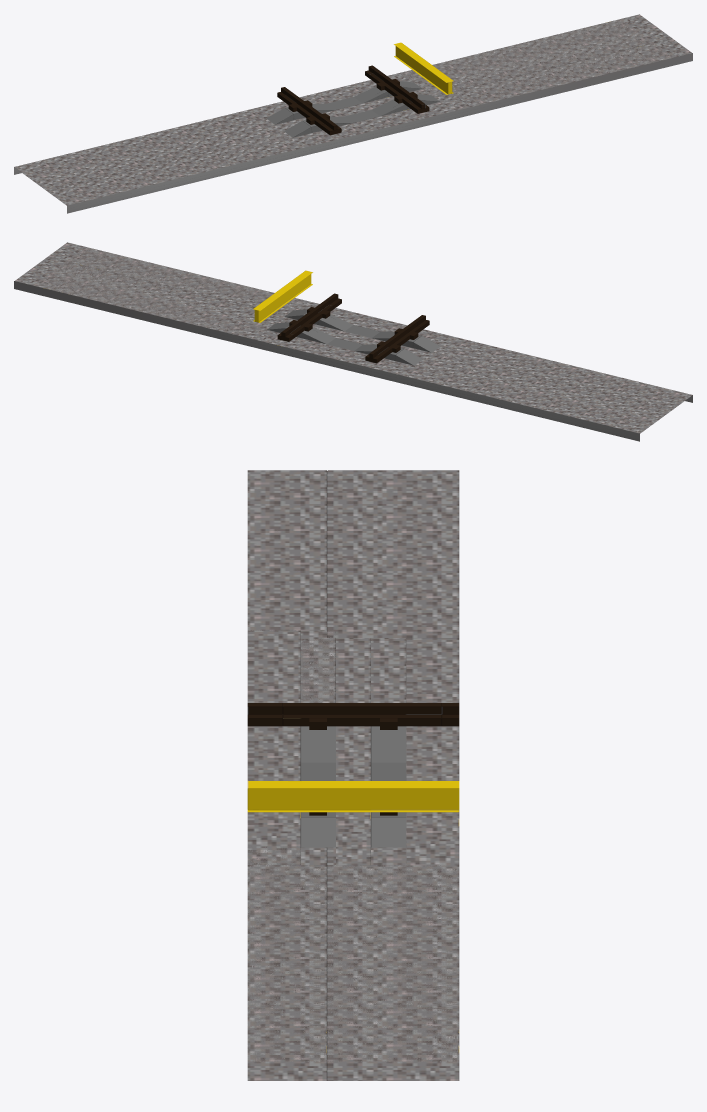
File: athen-metro-rail-5.obj
3 renders of one model, top to bottom at view 1: azimuth 30°, elevation 25°; view 2: azimuth 150°, elevation 25°; view 3: azimuth 270°, elevation 25°, orthographic. The views are drawn at different scales.
Visible parts, largest first — view 1: cube; view 2: cube; view 3: cube.
Part boxes in pixels (x1,y1,x2,y2): cube: (14,14,692,213); cube: (14,242,692,441); cube: (247,470,459,1080).
Size of the model in its own units: 10.25 by 0.7038 by 1.5.
Materials: 2 (2 with a texture image).
